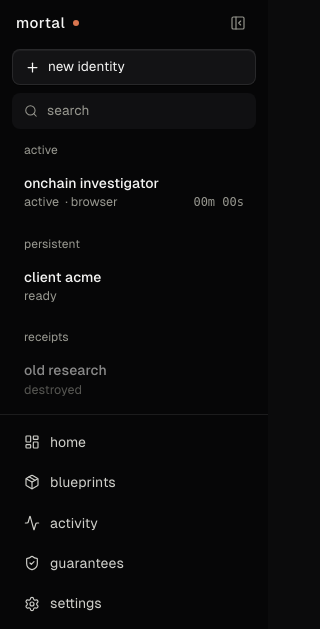
Test: identity navigator › filters by search and reports selection
Later steps or results of the test are not shown.
Type "onchain" into the search field named "search identities" at (134, 111), box [12,93,256,129]
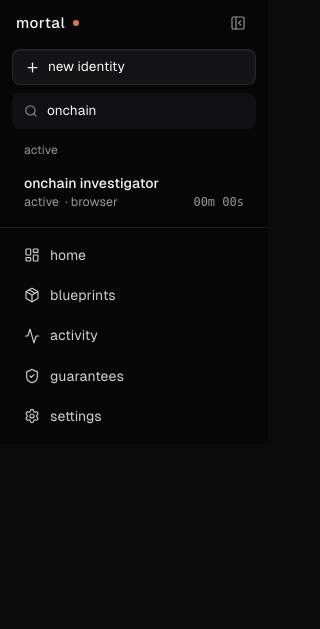
Now the button "client acme" is gone
